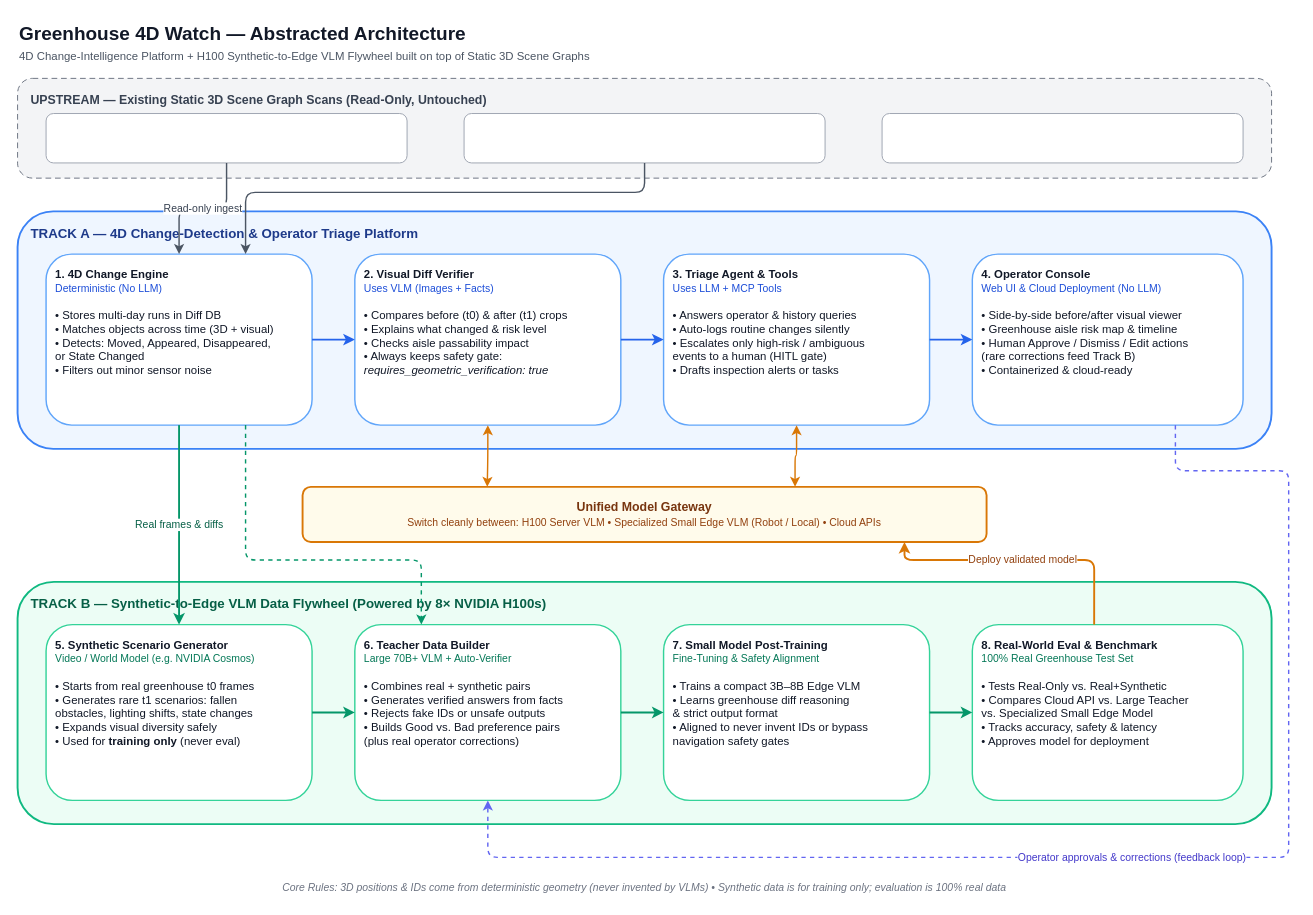
Image size: 1313x915. Some labels were removed from this diagram. Each missing label, with the centre of its shape:
Scan t0 (Earlier Run) 3D map + object crops + embeddings: point (226, 138)
Scan t1 (Newer Run) 3D map + object crops + embeddings: point (644, 138)
Scan tn (Future Multi-Day Runs) Existing perception pipeline stays untouched: point (1062, 138)
